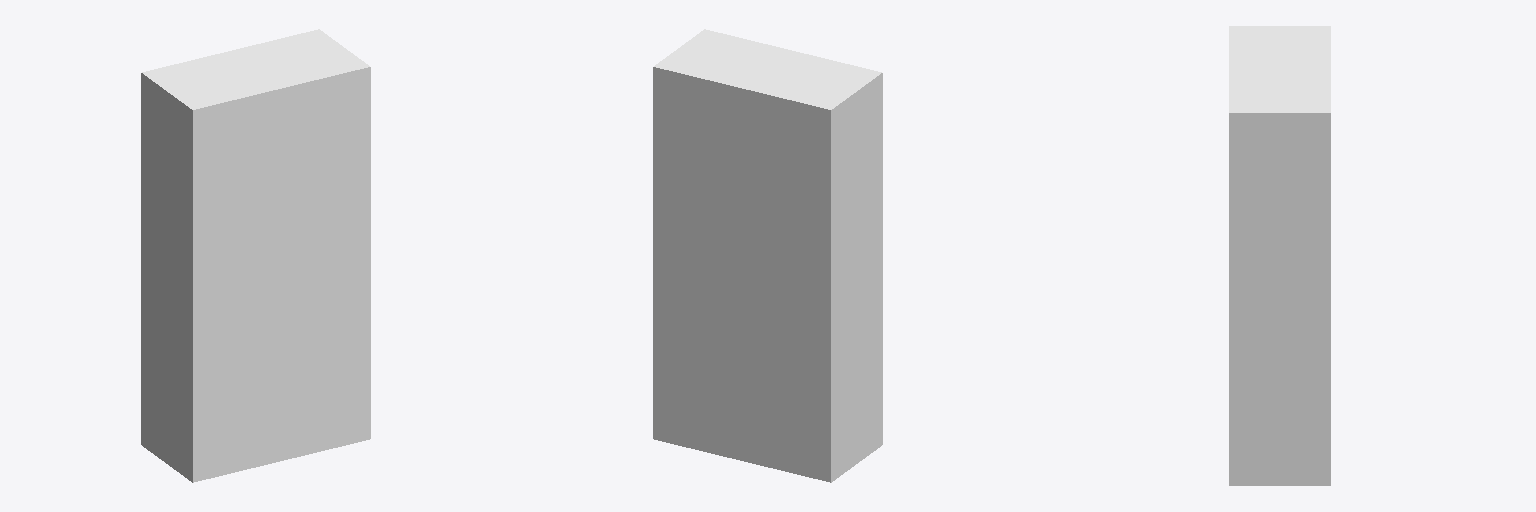
File: bookcase1.obj
3 renders of one model, left to right at view 1: azimuth 30°, elevation 25°; view 2: azimuth 150°, elevation 25°; view 3: azimuth 270°, elevation 25°, orthographic.
Parts seen in each view (by area): view 1: bookcase1; view 2: bookcase1; view 3: bookcase1.
Boxes of the visible parts, box(x1,y1,x2,y2) form: bookcase1: box(141, 29, 370, 482); bookcase1: box(653, 29, 882, 482); bookcase1: box(1229, 26, 1330, 485).
Size of the model in its own units: 20 by 40 by 10.